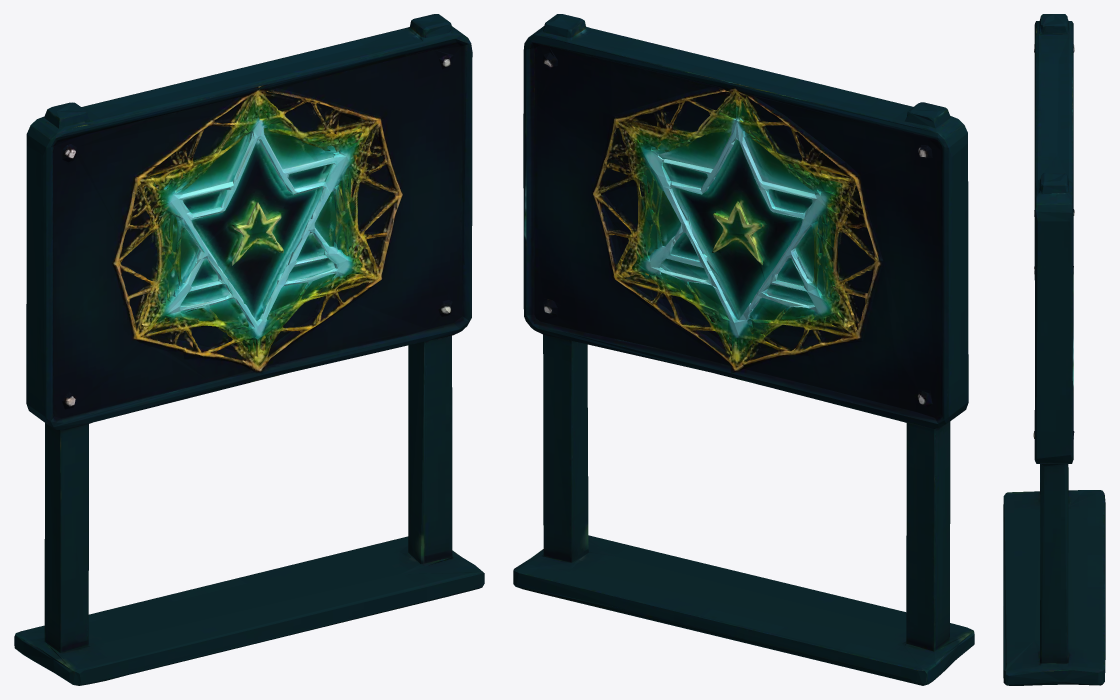
File: prop-signpost.glb
3 renders of one model, left to right at view 1: azimuth 30°, elevation 25°; view 2: azimuth 150°, elevation 25°; view 3: azimuth 270°, elevation 25°, orthographic. The views are drawn at different scales.
Visible parts, largest first — view 1: material; view 2: material; view 3: material.
Boxes of the visible parts, left/top/right/bottom form: material: left=14, top=14, right=484, bottom=685; material: left=513, top=14, right=974, bottom=685; material: left=1003, top=14, right=1105, bottom=685.
Size of the model in its own units: 0.7592 by 0.9406 by 0.1754.
1 material, 1 textured.
